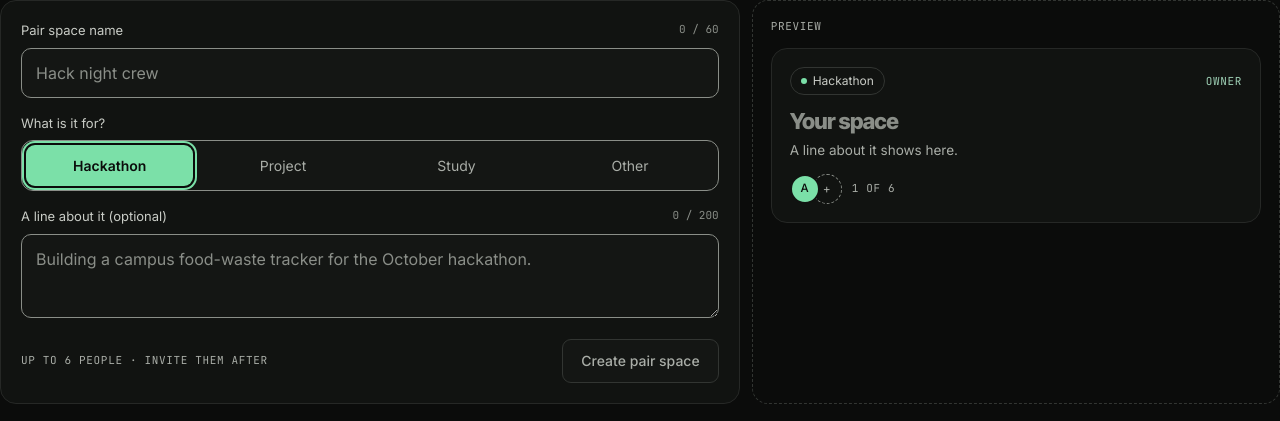
it: CreateTeam picker and preview › moves the purpose with the arrow keys and previews the card as you type
Expected: the radio button labelled "Hackathon" is checked, [26,145,193,186]
Press Arrowright
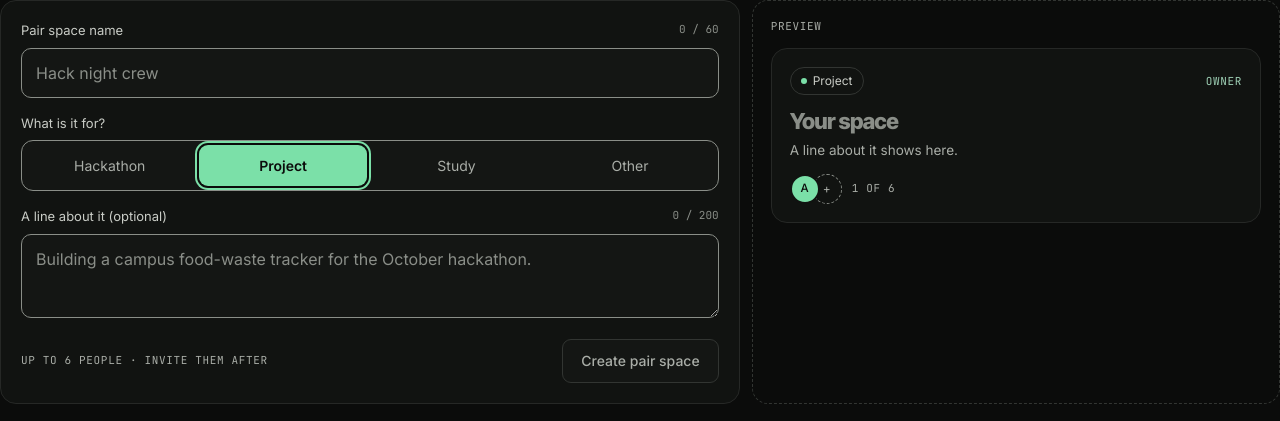
Expected: the radio button labelled "Project" is checked, [199,145,367,186]
Press Arrowleft Arrowleft
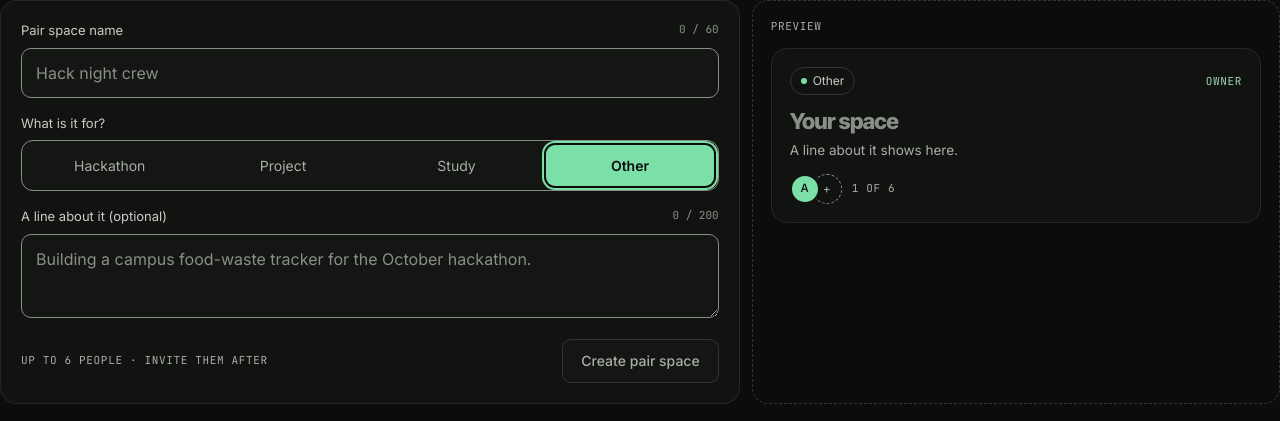
Expected: the radio button labelled "Other" is checked, [546,145,714,186]
In the field labelled "Pair space name": (370, 72) [21,48,719,98], type "Night owls"
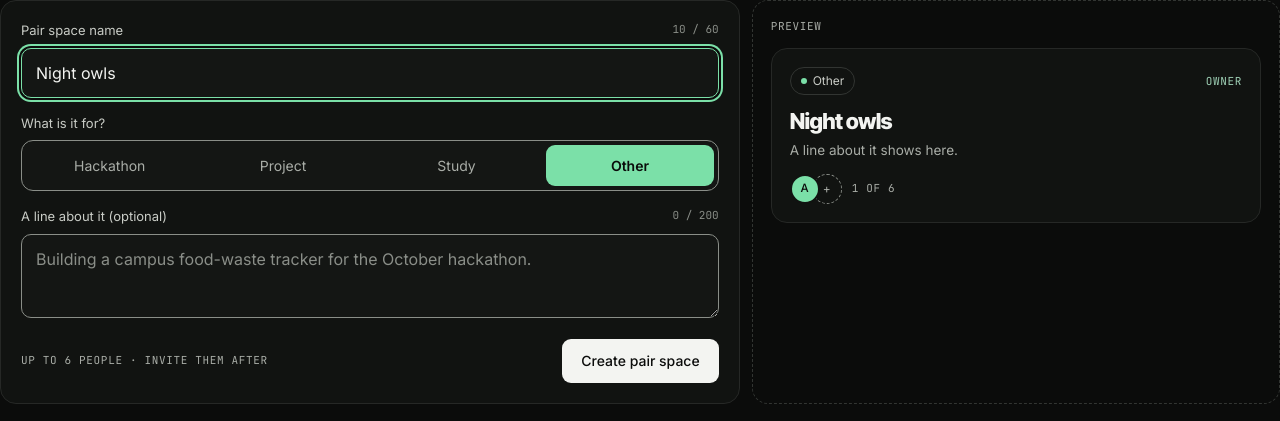
Expected: the text "10 / 60" is shown, [672,21,719,40]
Expected: the heading "Night owls" is shown, [790,108,892,134]
